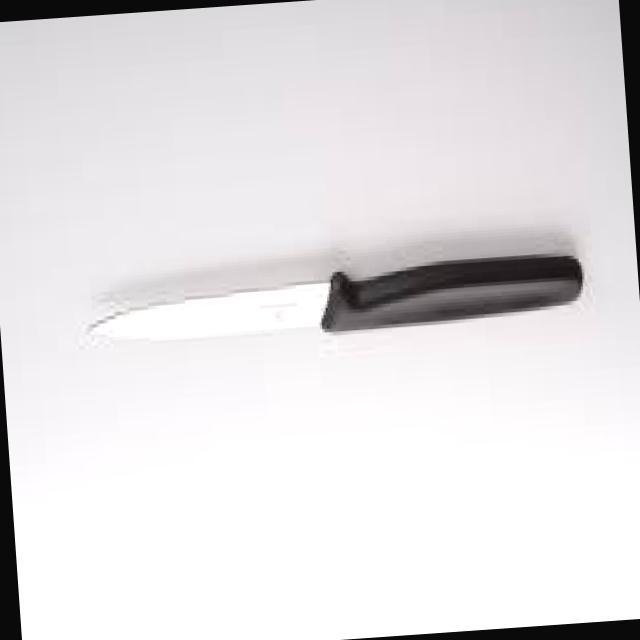Knife: (40, 152, 612, 406)
